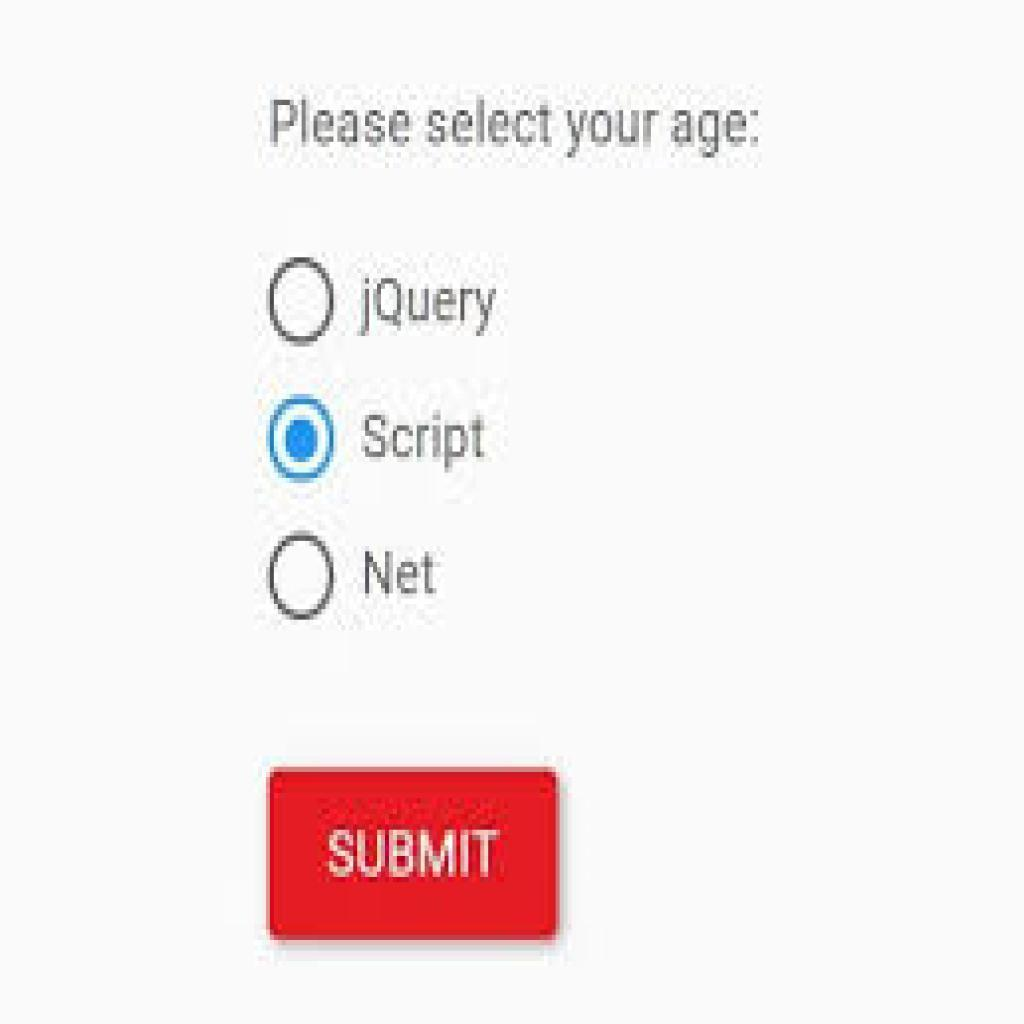button: (271, 767, 559, 941)
radio: (264, 390, 341, 487), (265, 531, 341, 625), (266, 256, 340, 349)
